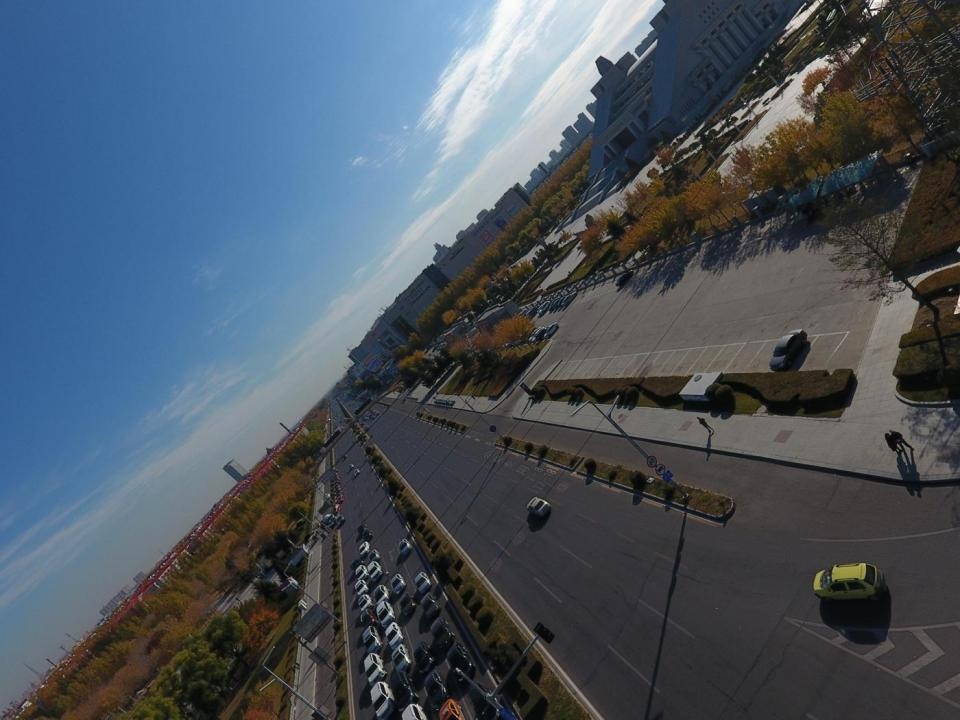car: (812, 562, 884, 604), (768, 328, 808, 371), (466, 681, 501, 720), (446, 643, 477, 685), (390, 670, 418, 712), (424, 670, 452, 710), (370, 681, 395, 720), (430, 617, 455, 652), (413, 640, 435, 676), (364, 653, 388, 686), (391, 644, 413, 673), (420, 592, 442, 620), (439, 698, 467, 720), (526, 496, 551, 518), (400, 703, 432, 720), (385, 622, 404, 650), (400, 592, 417, 616), (360, 608, 378, 630), (415, 571, 432, 594), (374, 585, 391, 606), (390, 573, 406, 595), (368, 561, 383, 583), (615, 270, 634, 286), (543, 322, 560, 339), (358, 594, 374, 612), (355, 579, 370, 598), (398, 538, 413, 556), (532, 327, 547, 344), (355, 564, 370, 581), (562, 291, 578, 306), (528, 327, 542, 344), (552, 296, 568, 310), (349, 559, 366, 572), (548, 297, 562, 312), (536, 326, 550, 341), (368, 549, 381, 564), (539, 301, 551, 315), (506, 334, 518, 348), (360, 541, 370, 557), (362, 529, 373, 542), (332, 503, 342, 516), (357, 523, 367, 536), (558, 295, 569, 306), (537, 302, 548, 313), (519, 309, 529, 320), (336, 515, 346, 525), (524, 311, 533, 320), (353, 468, 360, 476), (334, 489, 342, 495), (337, 496, 343, 504), (348, 464, 354, 470), (336, 493, 342, 499), (437, 343, 442, 350), (436, 343, 441, 350), (343, 452, 348, 459), (440, 343, 445, 349), (432, 346, 437, 352), (332, 468, 338, 473), (334, 476, 339, 481), (335, 486, 340, 491), (333, 474, 339, 478), (334, 480, 339, 484), (334, 484, 339, 488)
van: (363, 625, 383, 655), (376, 601, 396, 629), (321, 514, 336, 526), (528, 306, 538, 320)
